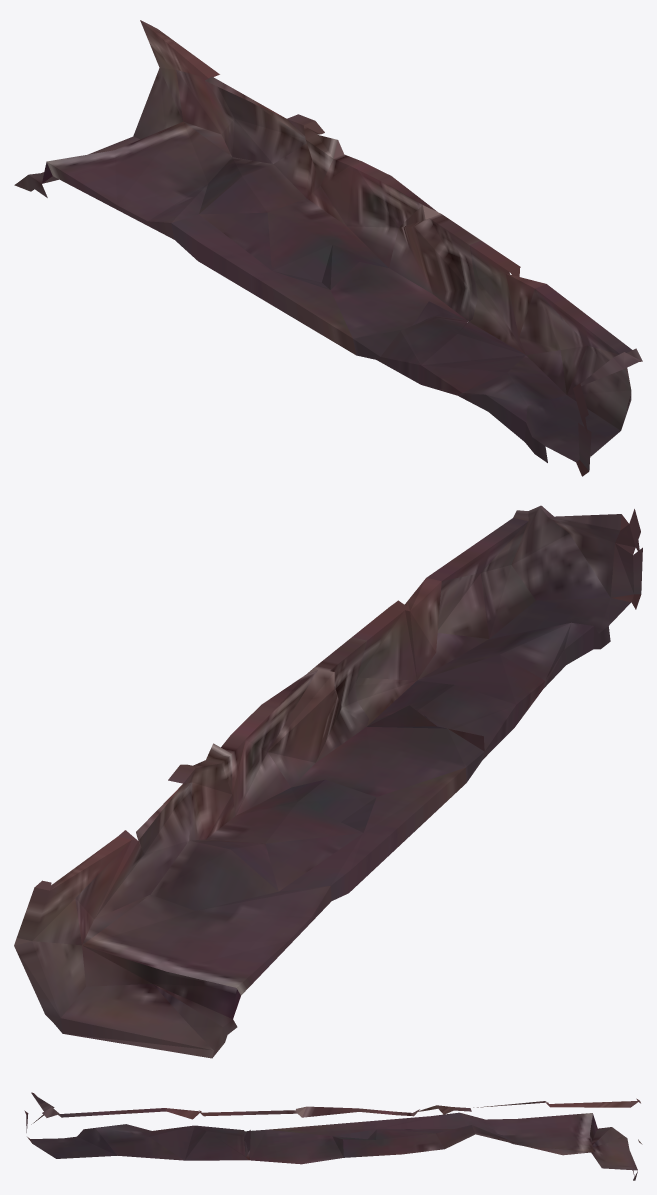
3 views of the same model, one above another, from view 1: azimuth 30°, elevation 25°; view 2: azimuth 150°, elevation 25°; view 3: azimuth 270°, elevation 25° (orthographic). The views are drawn at different scales.
Visible parts, largest first — view 1: Mesh_0; view 2: Mesh_0; view 3: Mesh_0.
Boxes of the visible parts, bbox=[...] form: Mesh_0: bbox=[14, 20, 642, 476]; Mesh_0: bbox=[14, 505, 642, 1058]; Mesh_0: bbox=[24, 1092, 642, 1180].
Bounding box in the file's own units: 6.31 × 4.65 × 30.96.
1 material, 1 textured.
